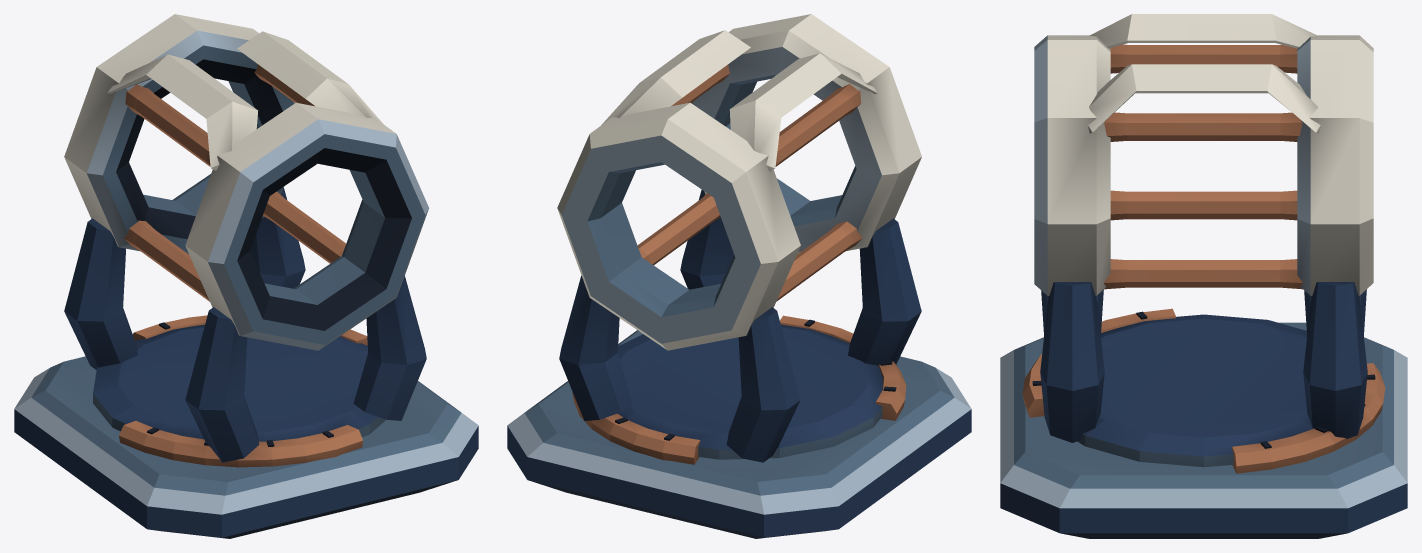
File: conduit.glb
3 views of the same model, side by side, from view 1: azimuth 30°, elevation 25°; view 2: azimuth 150°, elevation 25°; view 3: azimuth 270°, elevation 25° (orthographic). The views are drawn at different scales.
Visible parts, largest first — view 1: conduit; view 2: conduit; view 3: conduit.
Part boxes in pixels (box(x1,y1,x2,y2)): conduit: box(14, 14, 478, 538); conduit: box(507, 14, 971, 538); conduit: box(1000, 14, 1407, 538).
Bounding box in the file's own units: 0.98 × 1.11 × 0.96.
